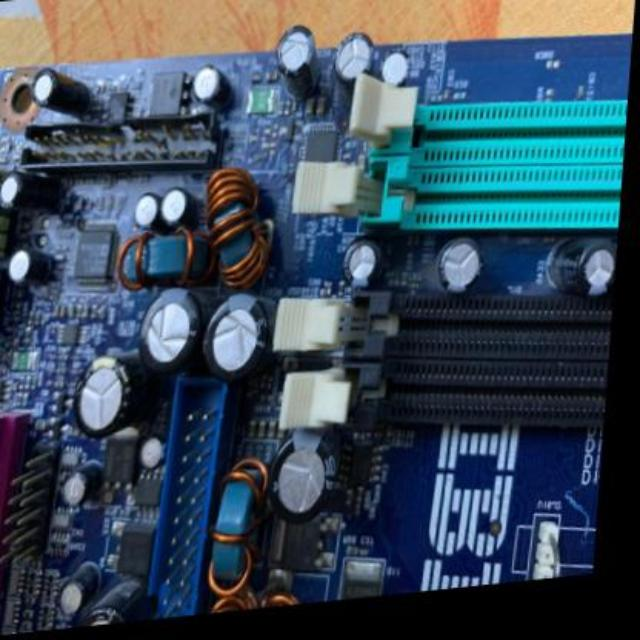PCB: (0, 38, 632, 634)
